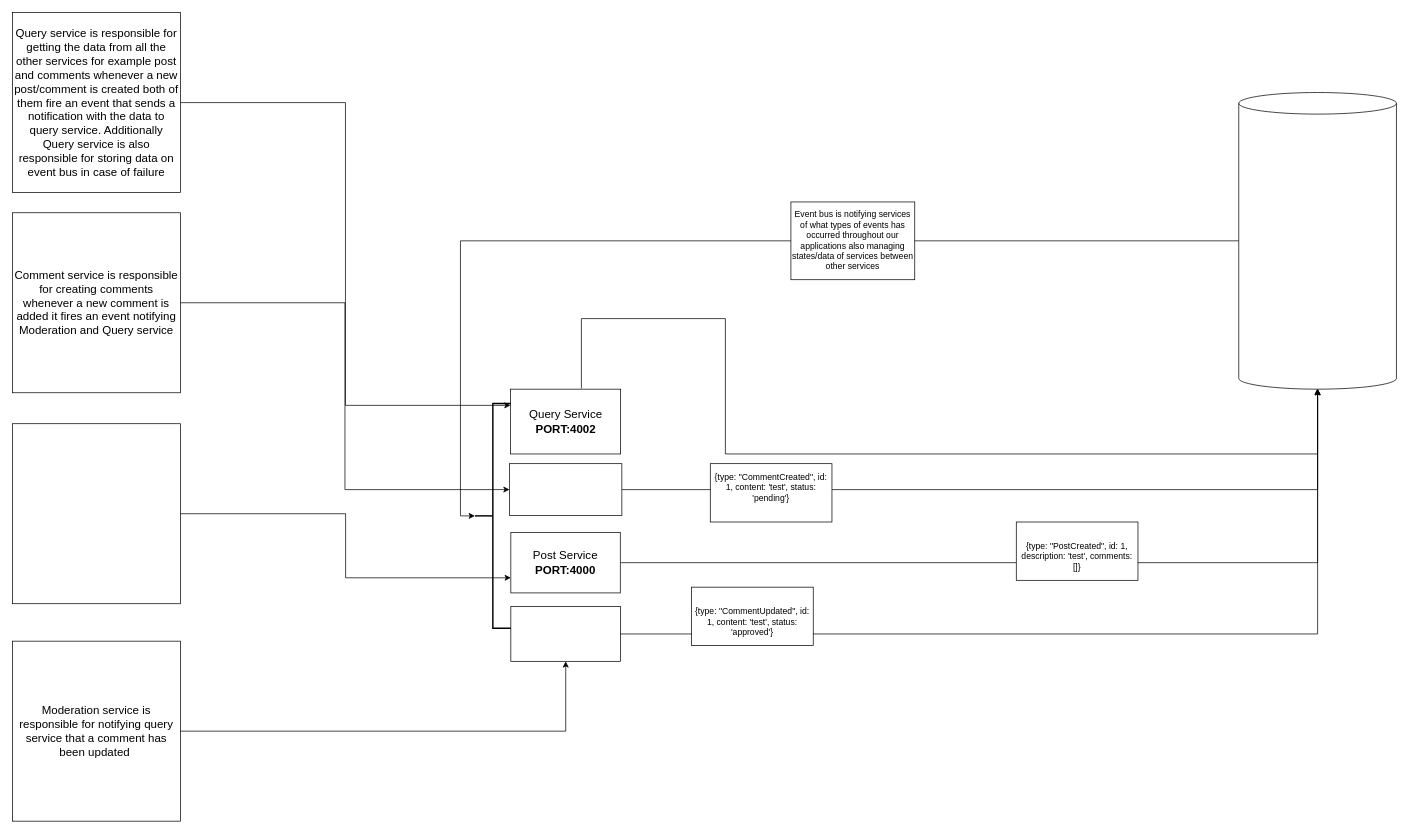
This 1409x834 diagram has some shape labels left out. Each missing label, with the box of its shape:
Comment Service PORT:4001: (509, 463, 622, 516)
Event Bus PORT:4005: (1238, 92, 1396, 389)
Moderation Service PORT:4003: (510, 606, 621, 661)
Post Service is responsible for creating new posts: (12, 423, 180, 604)
